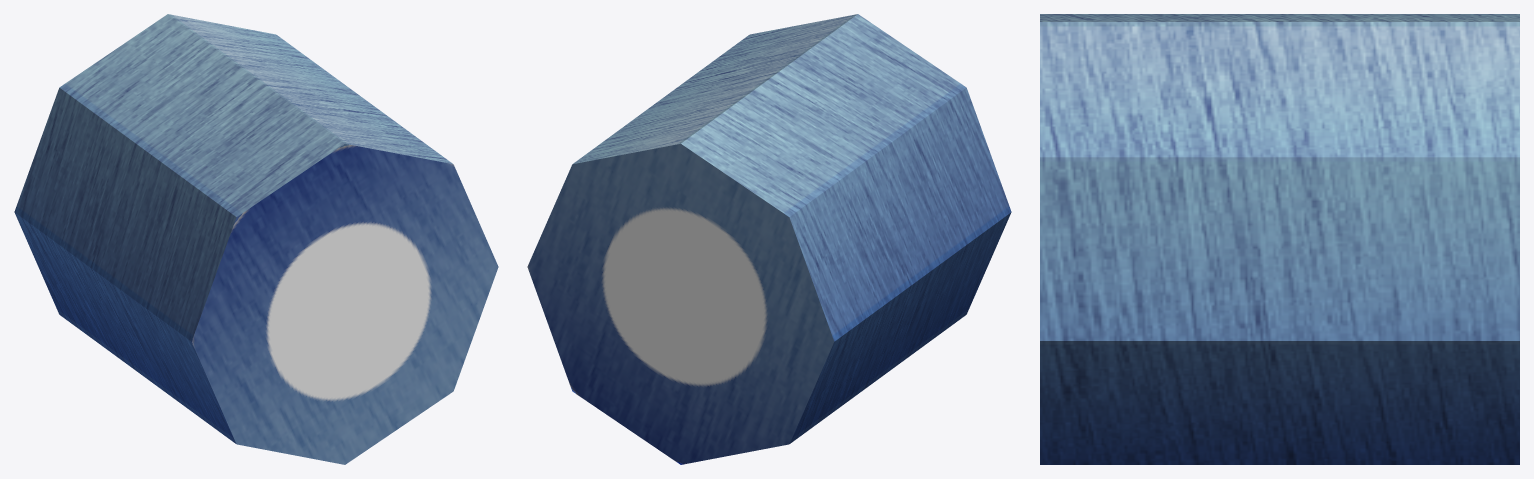
The model's file is touch_5.obj.
The picture shows the model from 3 angles, left to right: view 1: azimuth 30°, elevation 25°; view 2: azimuth 150°, elevation 25°; view 3: azimuth 270°, elevation 25°; orthographic projection. The views are drawn at different scales.
Visible parts, largest first — view 1: touch_1:Mesh; view 2: touch_1:Mesh; view 3: touch_1:Mesh.
Boxes of the visible parts, bbox=[...] form: touch_1:Mesh: bbox=[14, 14, 498, 464]; touch_1:Mesh: bbox=[527, 14, 1011, 464]; touch_1:Mesh: bbox=[1040, 14, 1519, 464].
Size of the model in its own units: 32.42 by 32.42 by 32.42.
Materials: 1 (1 with a texture image).
